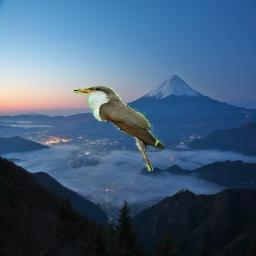Cuckoo: (71, 86, 166, 171)
